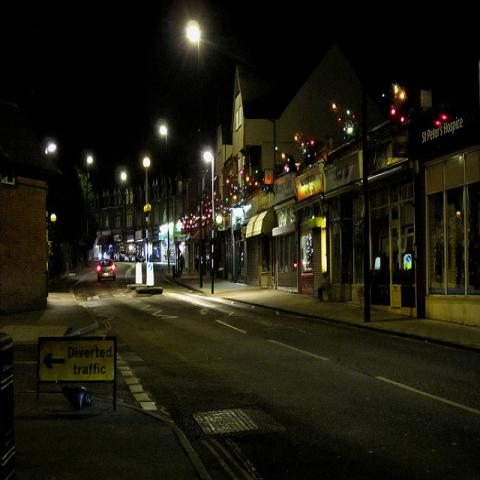car: (96, 259, 118, 282), (120, 248, 130, 262)
